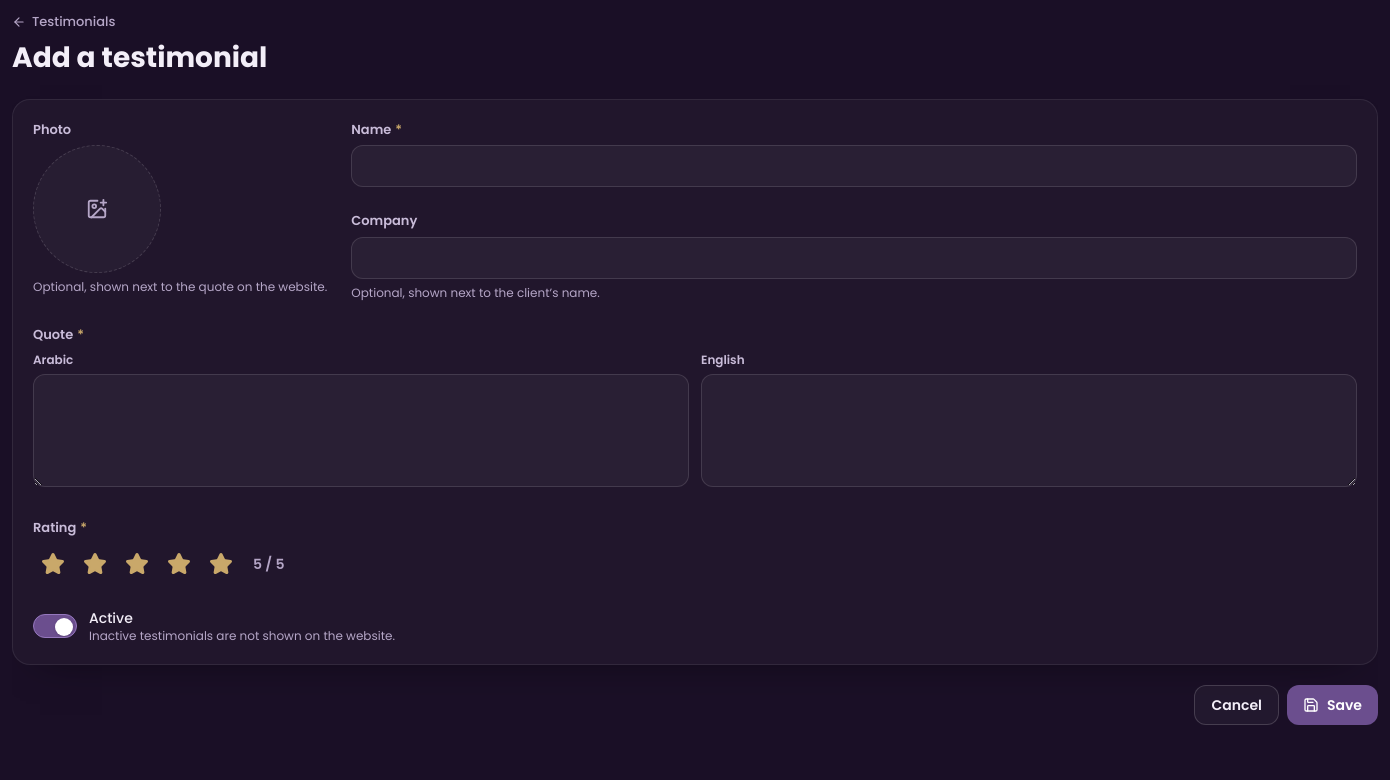
Test: TestimonialCreate › creates the testimonial with the defaults (rating 5, active, no company, no avatar) and returns to the list
Type "Omar Khaled" into the field labelled "Name" at (854, 166), box [351,145,1357,187]
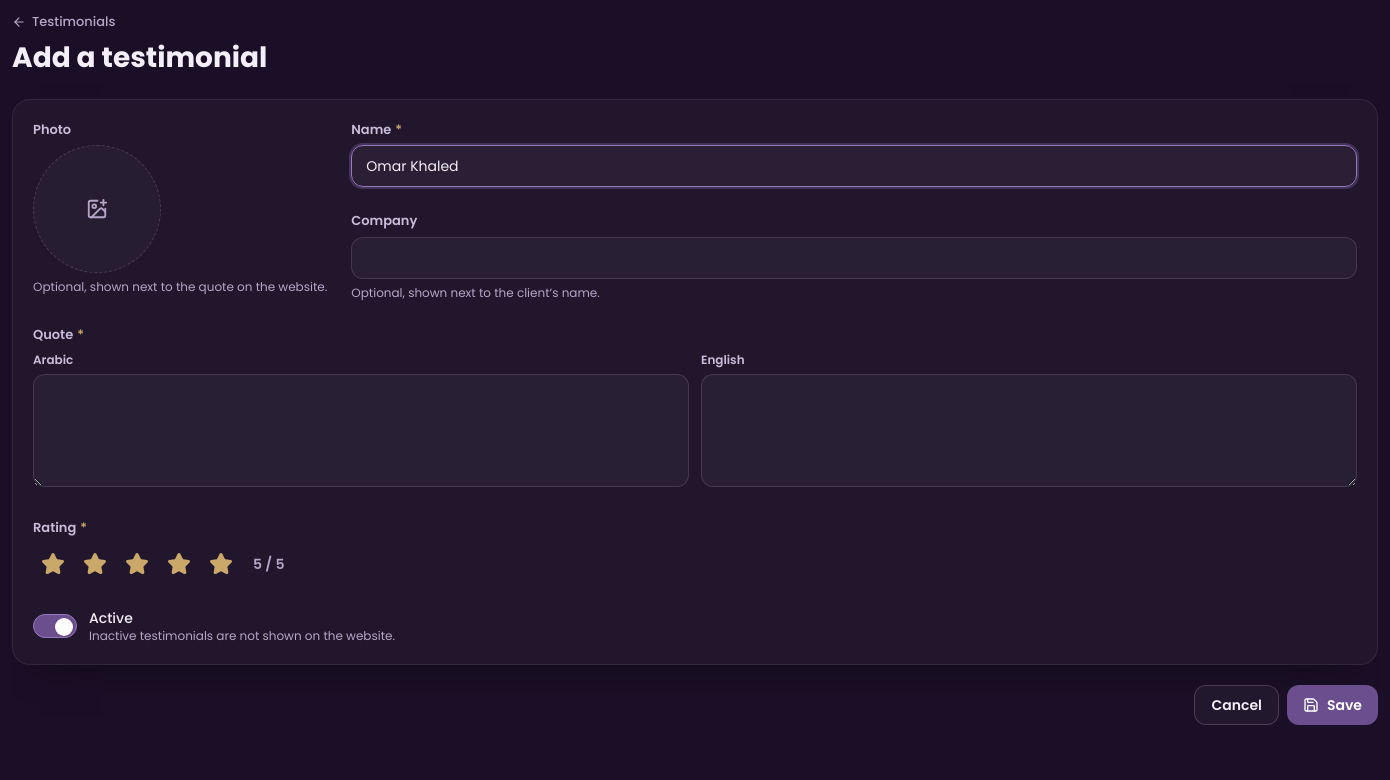
Type "ممتاز" into the text box named "Quote (Arabic)" at (361, 431), box [33,374,689,487]
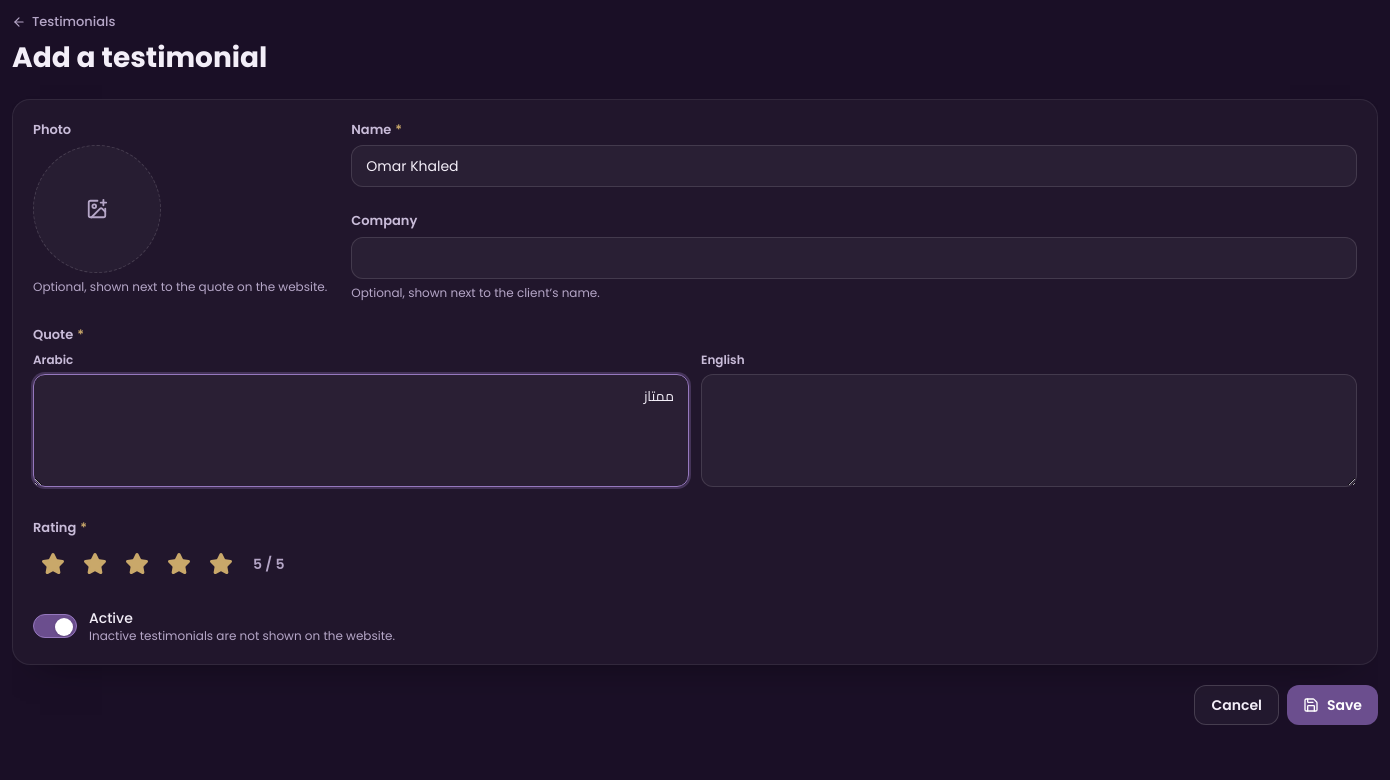
Type "Great work" into the text box named "Quote (English)" at (1029, 431), box [701,374,1357,487]
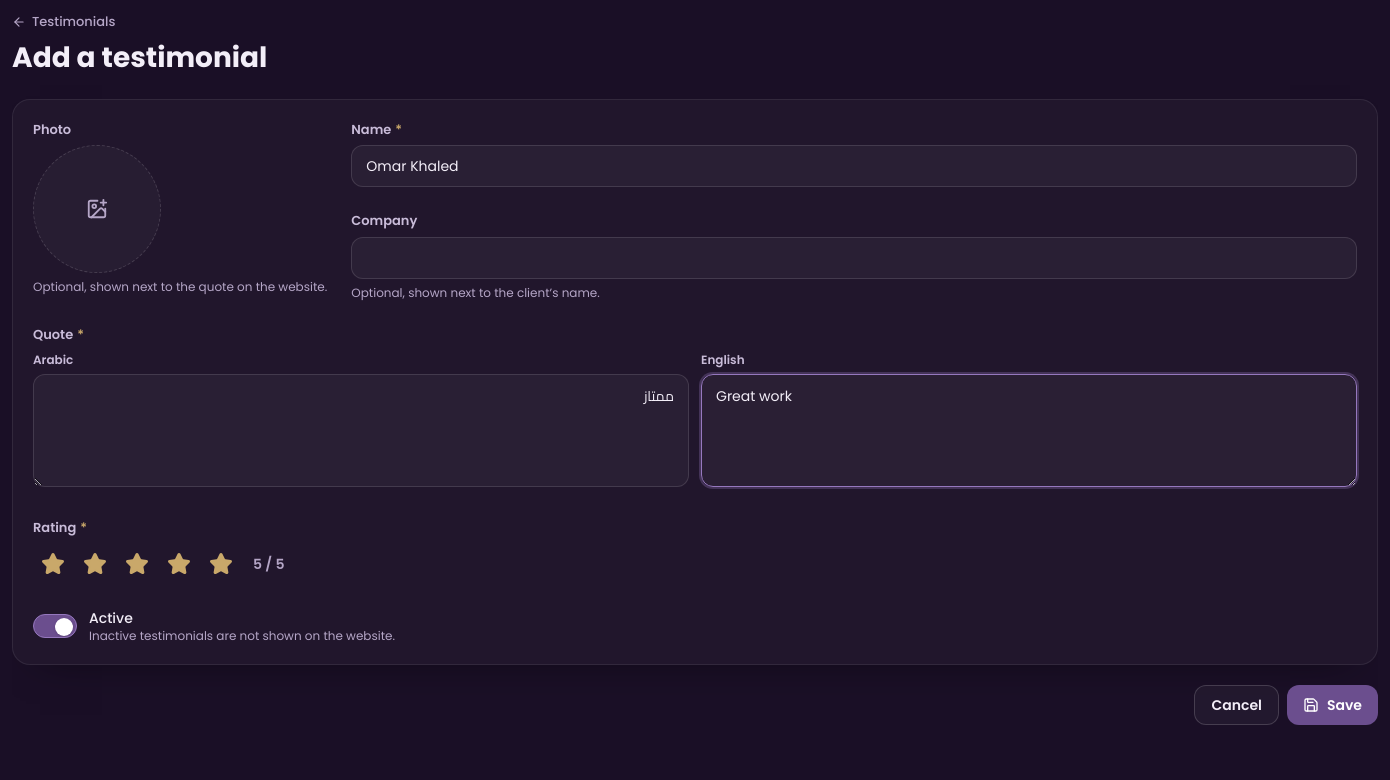
Click the button "Save" at (1332, 705), box [1287,685,1378,725]
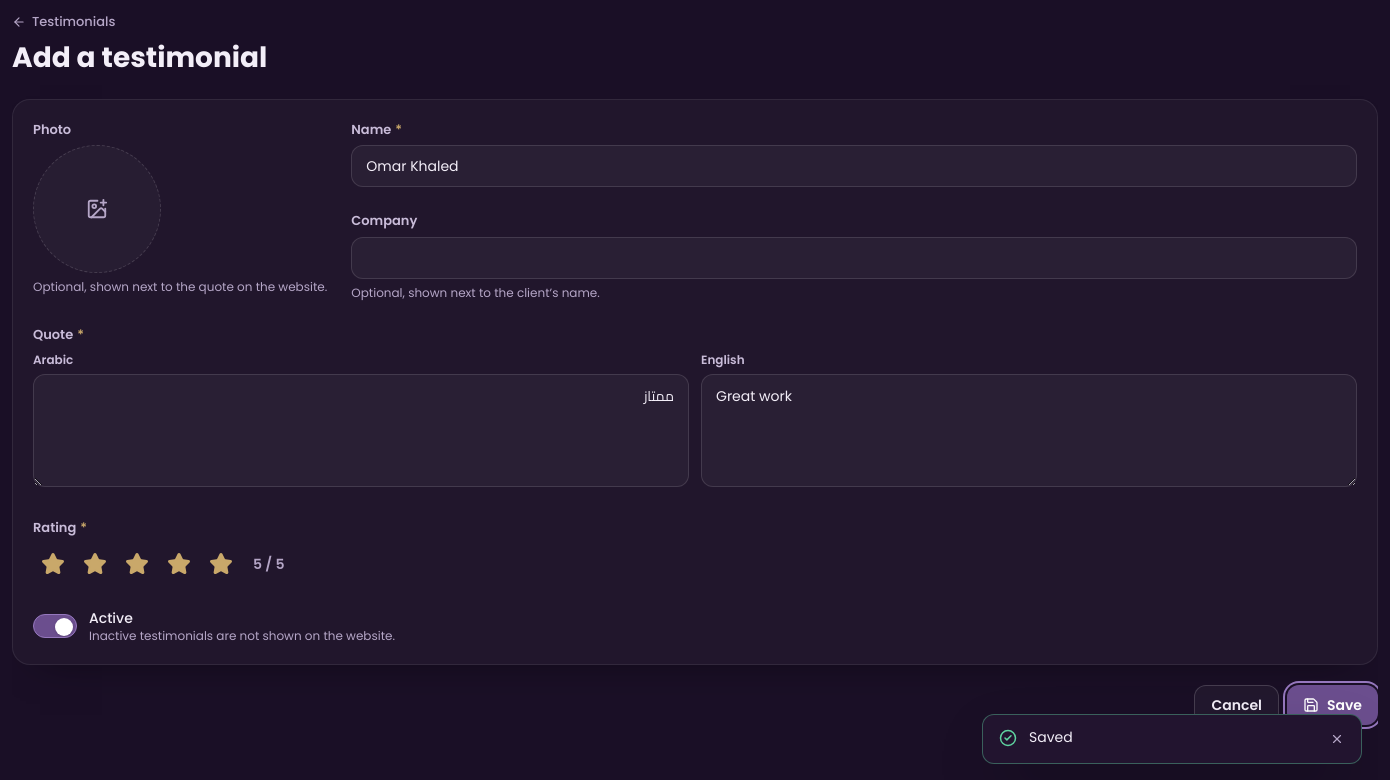
Now the text "Saved" is shown, box [1029,727,1073,747]
